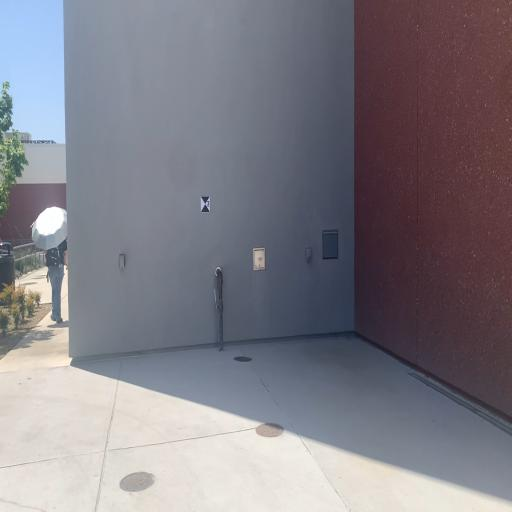target3: (201, 195, 210, 214)
